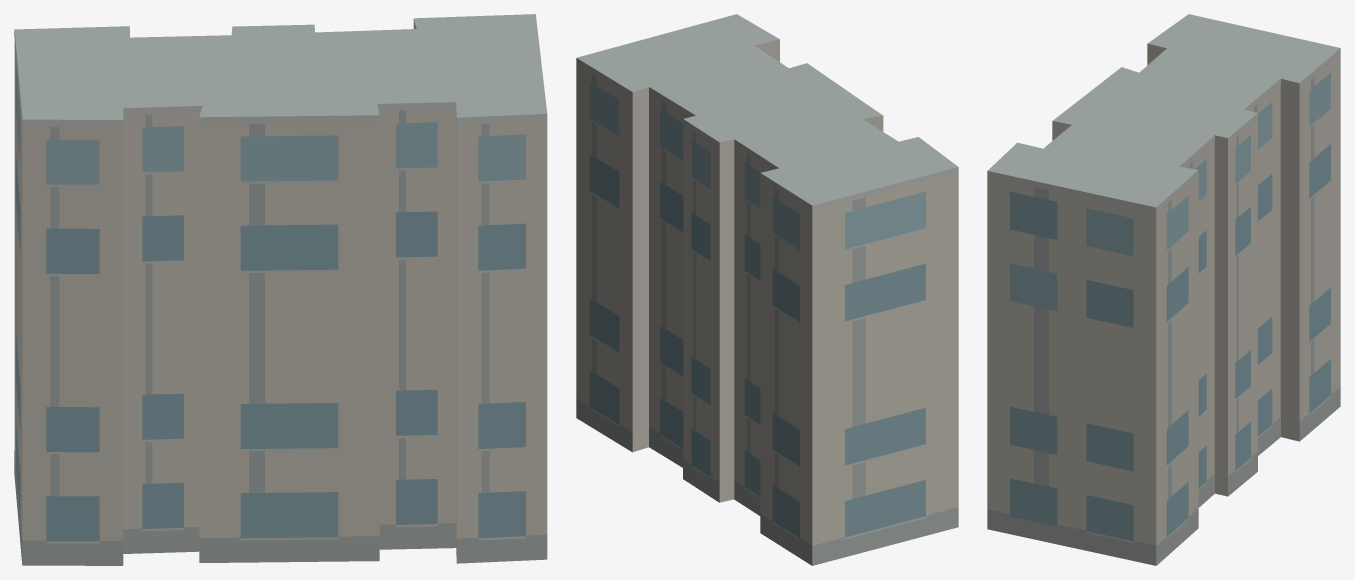
The model's file is survey-upis-32483500.glb.
3 renders of one model, left to right at view 1: azimuth 30°, elevation 25°; view 2: azimuth 150°, elevation 25°; view 3: azimuth 270°, elevation 25°, orthographic. The views are drawn at different scales.
Visible parts, largest first — view 1: survey-upis-32483500.tmp; view 2: survey-upis-32483500.tmp; view 3: survey-upis-32483500.tmp.
Part boxes in pixels (<box>): survey-upis-32483500.tmp: <box>14,14,547,565</box>; survey-upis-32483500.tmp: <box>576,14,958,565</box>; survey-upis-32483500.tmp: <box>987,14,1340,565</box>.
Size of the model in its own units: 17.67 by 15.25 by 13.63.
